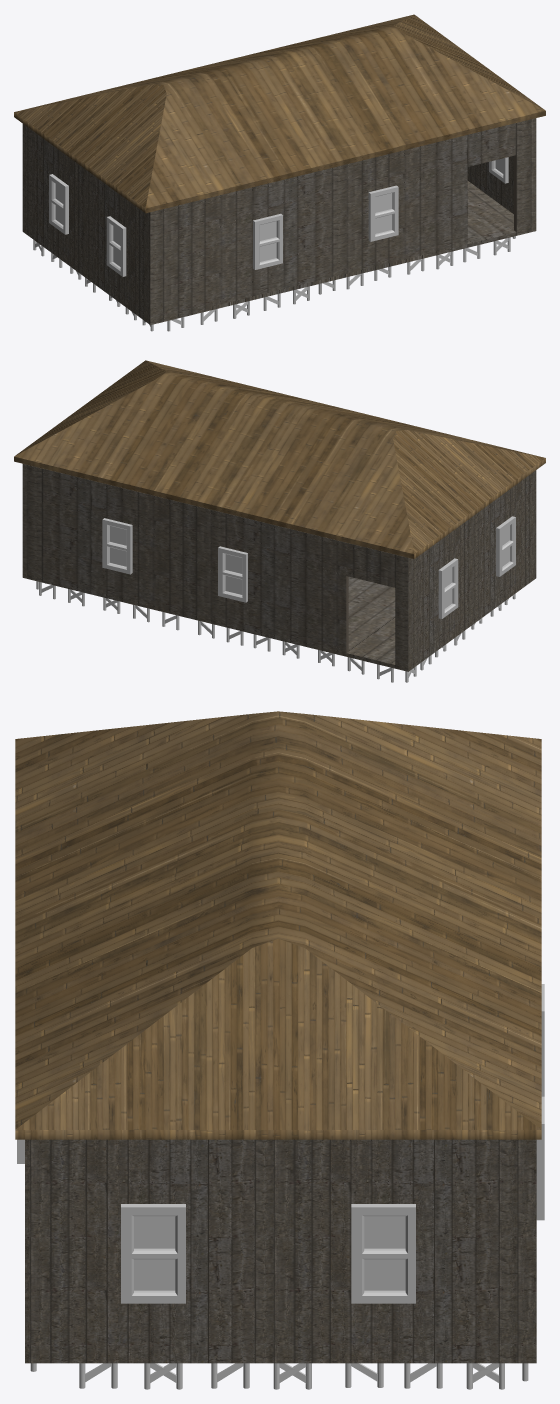
The model's file is MDL_CasaInterior.fbx.
The picture shows the model from 3 angles, top to bottom: view 1: azimuth 30°, elevation 25°; view 2: azimuth 150°, elevation 25°; view 3: azimuth 270°, elevation 25°; orthographic projection. The views are drawn at different scales.
Visible parts, largest first — view 1: group4_Casa; view 2: group4_Casa; view 3: group4_Casa.
Part boxes in pixels (<box>): group4_Casa: <box>14,14,545,331</box>; group4_Casa: <box>14,360,545,682</box>; group4_Casa: <box>15,711,544,1389</box>.
Size of the model in its own units: 86.08 by 39.2 by 49.29.
